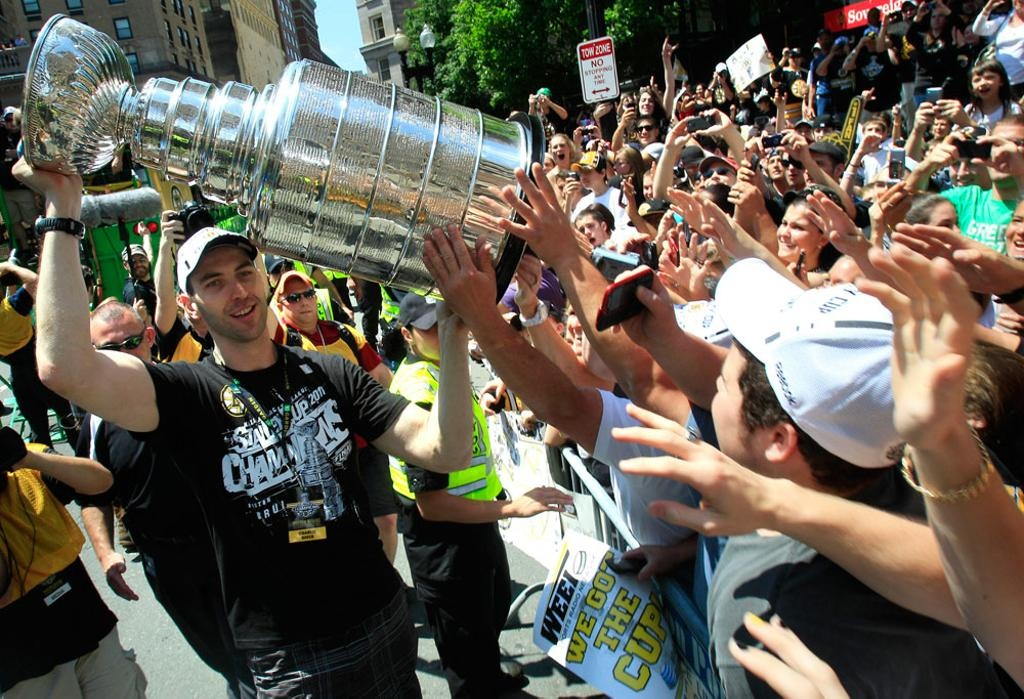human_face: (711, 334, 763, 468), (198, 252, 268, 338), (90, 320, 148, 374), (775, 200, 821, 262), (928, 200, 962, 256), (873, 166, 911, 210), (414, 316, 450, 362), (280, 279, 316, 325), (564, 313, 594, 367), (990, 127, 1022, 174), (518, 314, 556, 350), (948, 155, 988, 189), (800, 150, 834, 190), (1004, 199, 1024, 266), (704, 160, 734, 194), (972, 70, 1000, 102), (576, 216, 604, 246), (345, 270, 367, 308), (782, 150, 804, 186), (272, 263, 296, 289), (640, 174, 662, 202), (579, 165, 601, 191), (549, 138, 569, 164), (636, 120, 656, 144), (766, 156, 784, 180), (931, 115, 949, 138), (863, 121, 881, 144), (638, 90, 654, 115), (128, 255, 148, 275), (614, 152, 630, 176), (930, 6, 944, 30), (814, 126, 832, 144), (686, 161, 704, 179), (963, 24, 979, 44), (84, 276, 96, 302), (795, 126, 811, 142), (902, 4, 916, 22), (4, 113, 18, 129), (864, 34, 876, 52), (788, 52, 800, 68), (918, 0, 928, 18), (818, 35, 830, 49), (1012, 0, 1022, 14), (622, 96, 632, 110), (94, 279, 102, 295), (538, 94, 548, 104), (695, 83, 703, 95), (759, 101, 767, 111), (718, 70, 726, 80), (836, 44, 844, 54), (812, 48, 818, 58)
